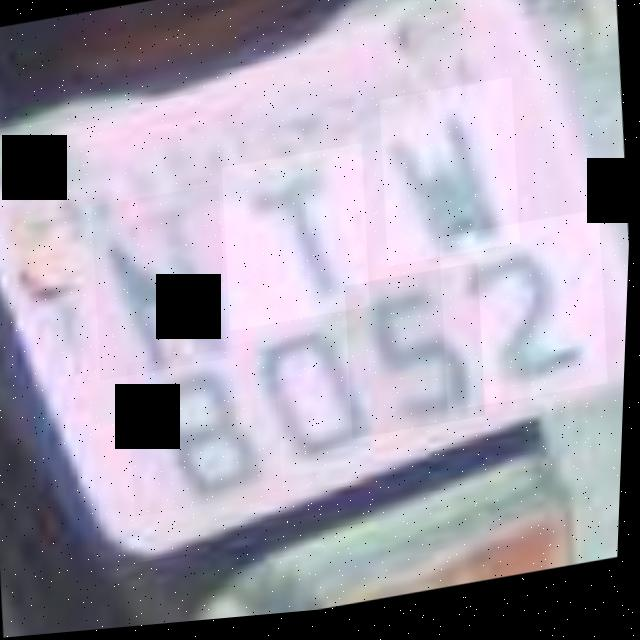0: (226, 294, 394, 489)
2: (436, 219, 616, 421)
5: (342, 270, 493, 447)
8: (125, 342, 290, 520)
N: (88, 187, 235, 383)
T: (218, 149, 377, 336)
W: (375, 85, 526, 274)
